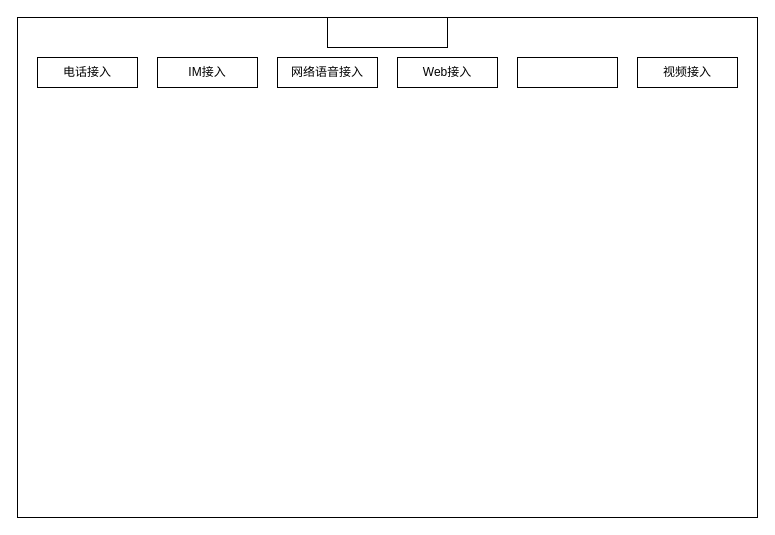
Some shapes in this 775 by 535 pixel diagram are drawn without their labels. Each missing label, with the centre of its shape:
"图像接入" belongs at point 567,72.
"多渠道接入中心" belongs at point 387,32.
